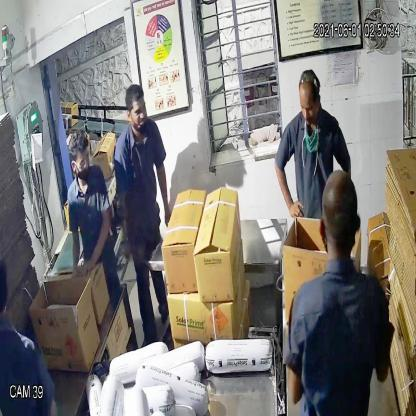goggles: (67, 150, 92, 172)
no_goggles: (121, 102, 152, 123), (296, 96, 324, 117)
